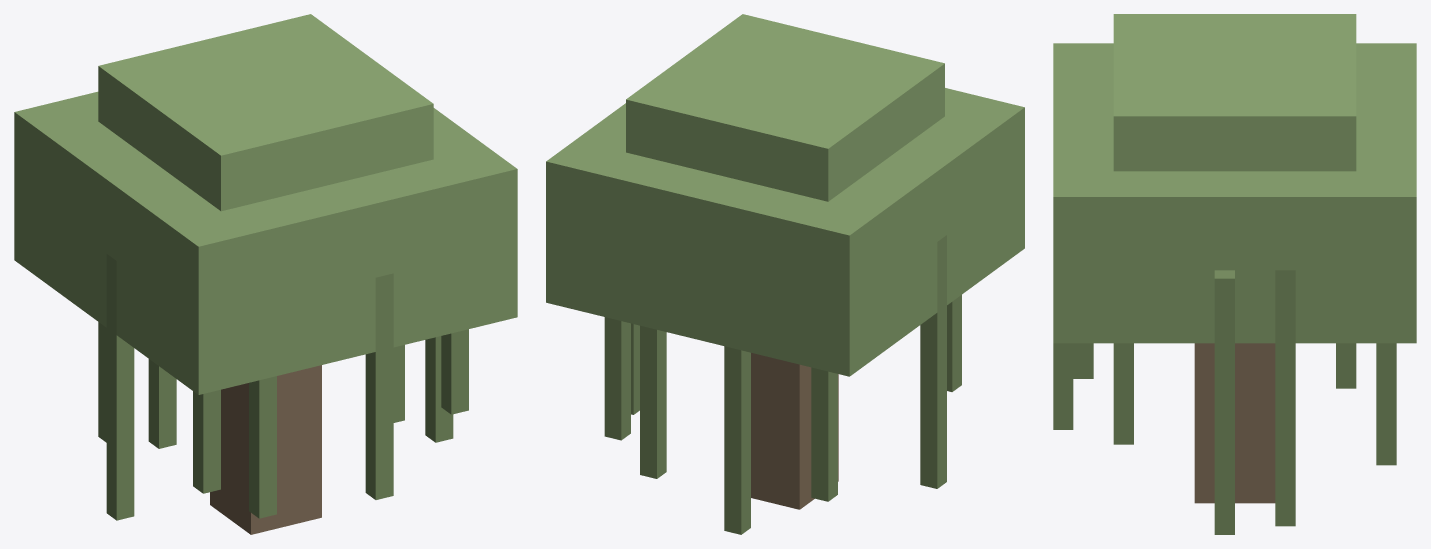
File: sauce_03.glb
3 renders of one model, left to right at view 1: azimuth 30°, elevation 25°; view 2: azimuth 150°, elevation 25°; view 3: azimuth 270°, elevation 25°, orthographic. The views are drawn at different scales.
Parts seen in each view (by area): view 1: sauce_03; view 2: sauce_03; view 3: sauce_03.
Part boxes in pixels (left/top/right/bottom): sauce_03: left=14, top=14, right=517, bottom=534; sauce_03: left=546, top=14, right=1024, bottom=534; sauce_03: left=1053, top=14, right=1416, bottom=534.
Size of the model in its own units: 1.9 by 2.3 by 1.8.
